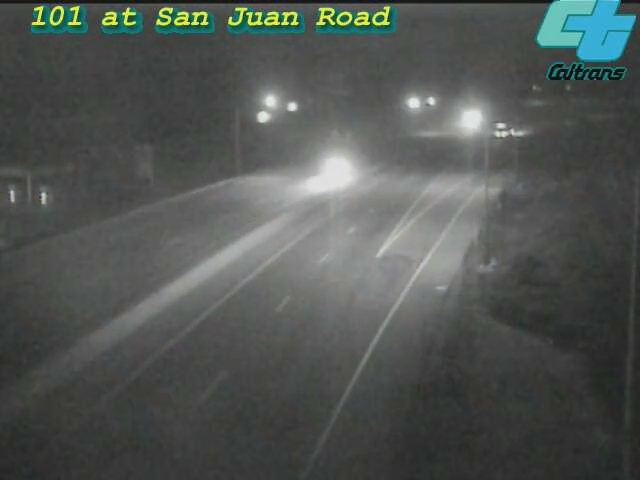vehicle: (290, 131, 370, 211), (443, 96, 493, 146), (480, 105, 530, 155)
